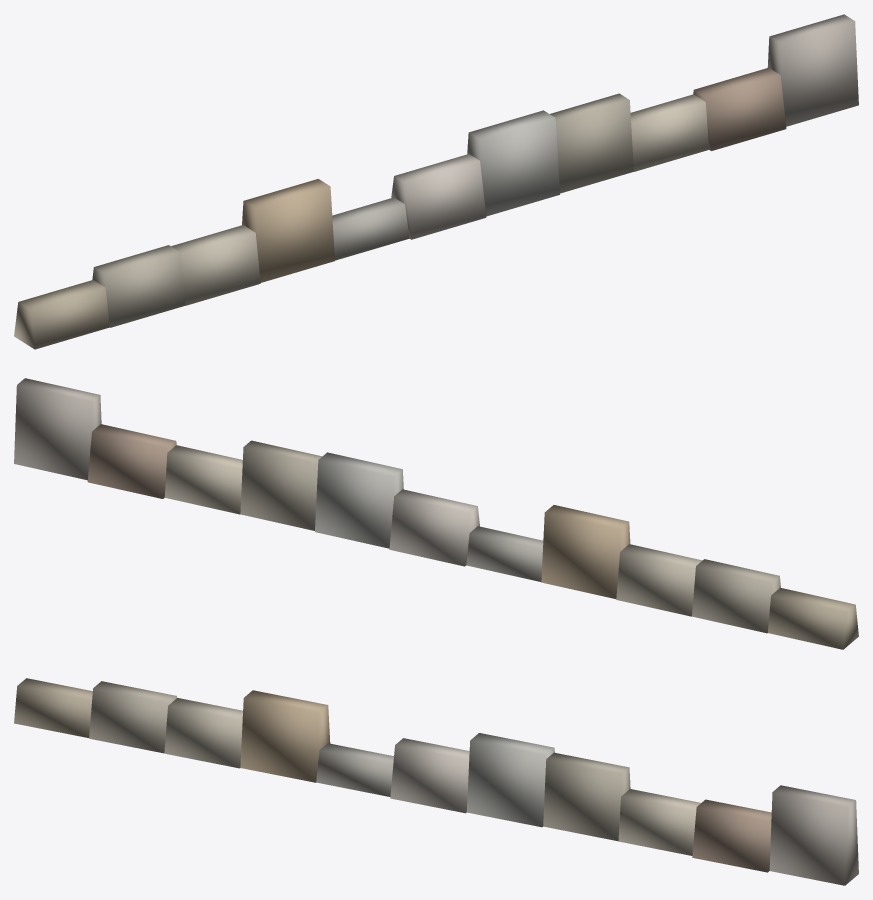
File: farm_29_32_collision.glb
The picture shows the model from 3 angles, top to bottom: view 1: azimuth 30°, elevation 25°; view 2: azimuth 150°, elevation 25°; view 3: azimuth 330°, elevation 25°; orthographic projection. The views are drawn at different scales.
Visible parts, largest first — view 1: geometry_0; view 2: geometry_0; view 3: geometry_0.
Boxes of the visible parts, x1,y1,x2,y2 form: geometry_0: [14, 14, 858, 349]; geometry_0: [14, 378, 858, 649]; geometry_0: [14, 678, 858, 885].
Bounding box in the file's own units: 17.15 × 1.79 × 1.69.
